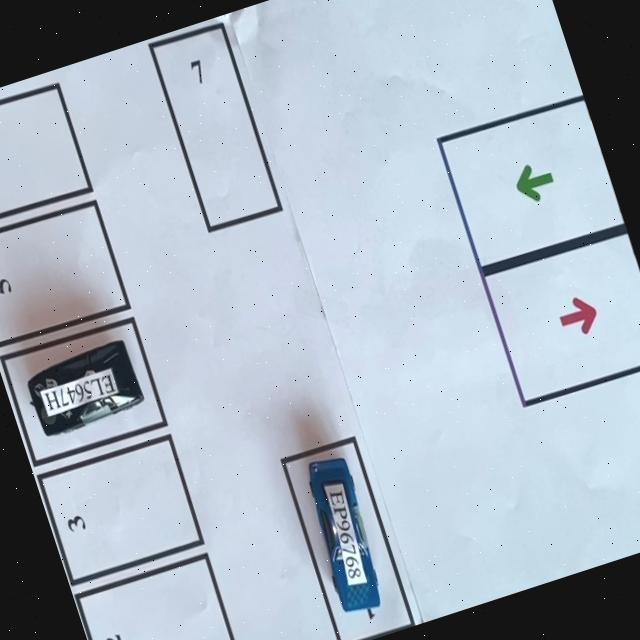car: (308, 457, 380, 617), (28, 341, 143, 435)
